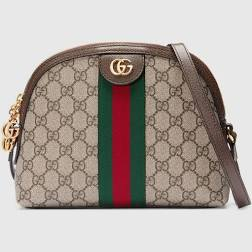Gucci: (20, 27, 229, 216), (95, 51, 152, 214), (38, 82, 94, 194), (103, 52, 135, 88)
